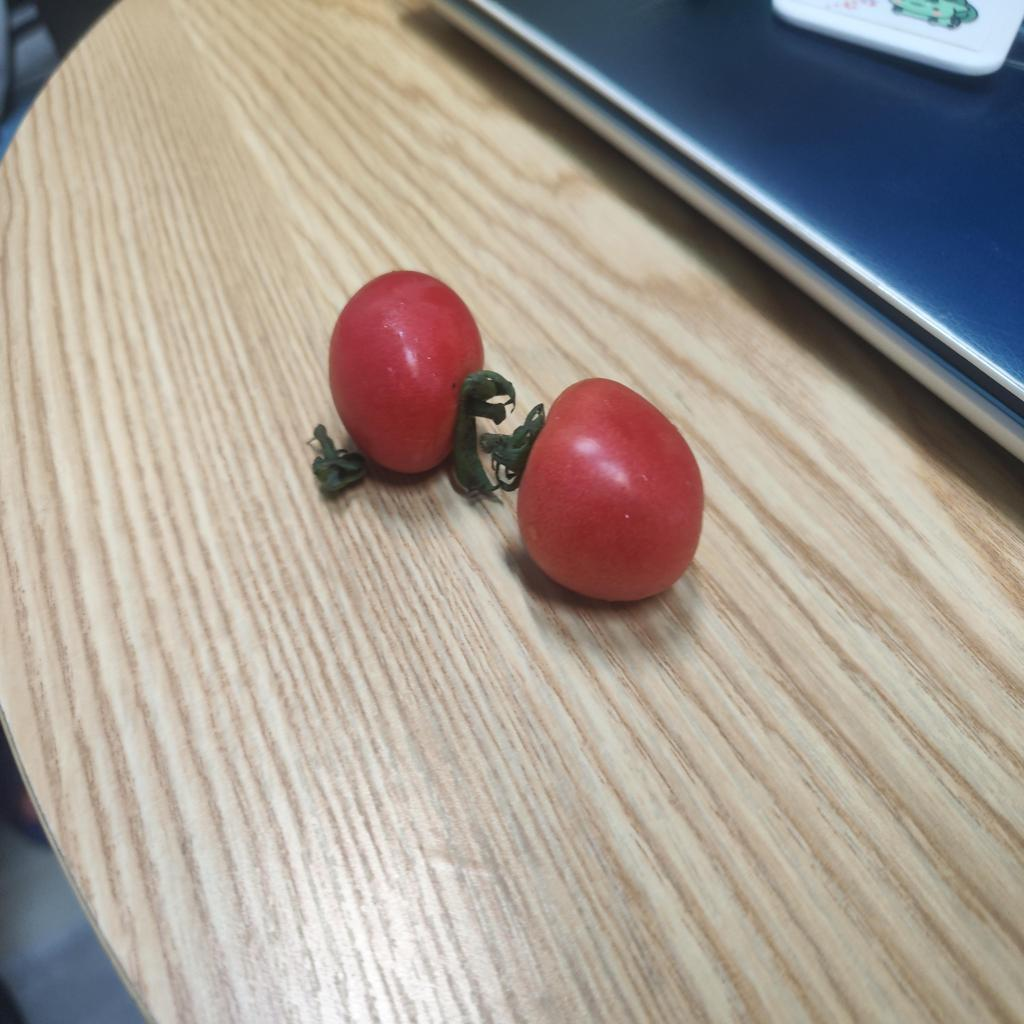tomato: (517, 372, 701, 606), (328, 270, 493, 484)
